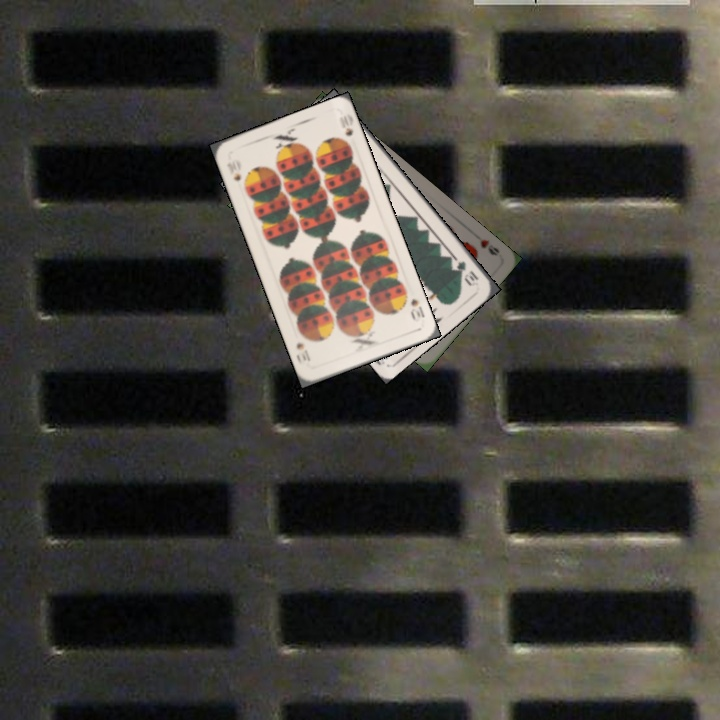G10: (452, 257, 481, 288)
H9: (476, 235, 502, 259)
S10: (406, 295, 427, 324), (223, 157, 244, 184)
